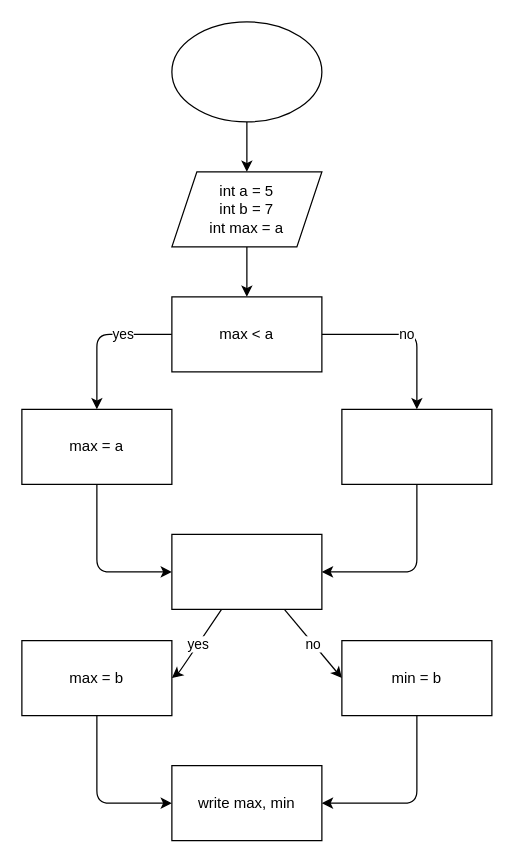
Some shapes in this 514 by 863 pixel diagram are drawn without their labels. Here are the shapes that lost their labels. From the top down, the centre of each, then its label:
At pixel 246 71: "Start".
At pixel 416 446: "min = a".
At pixel 246 571: "max < b".
